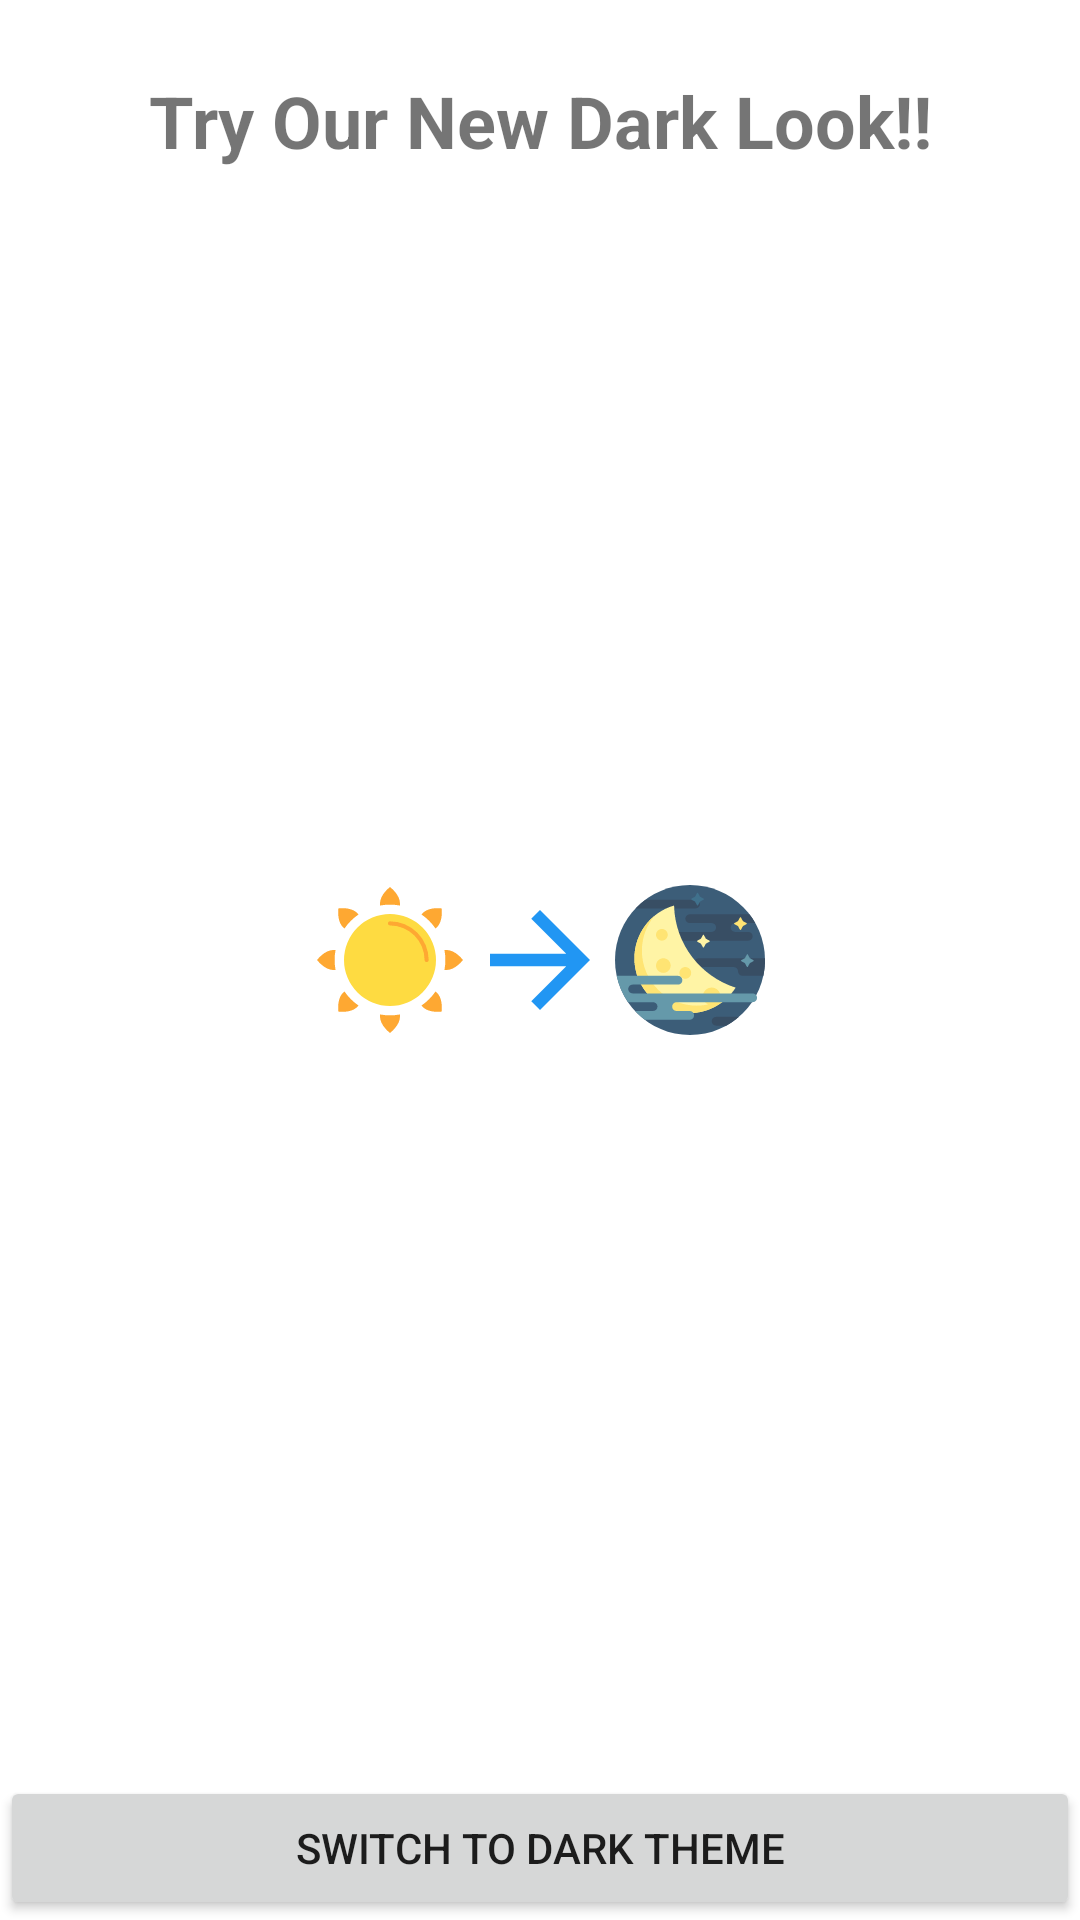

Where to tap for icons on this 1080×1920 app screen, as (x,y):
moon: (690,960)
sun: (390,960)
